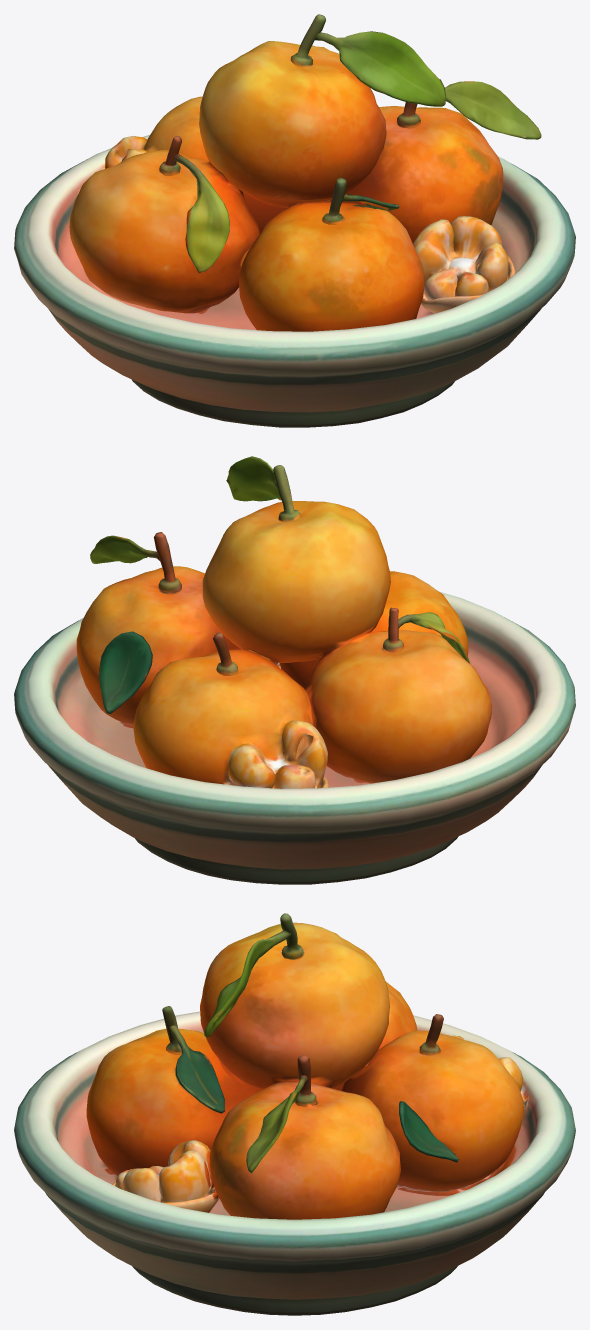
File: family-mandarins-v1.glb
3 views of the same model, one above another, from view 1: azimuth 30°, elevation 25°; view 2: azimuth 150°, elevation 25°; view 3: azimuth 270°, elevation 25° (orthographic).
Parts seen in each view (by area): view 1: Celadon dish and fresh mandarins; view 2: Celadon dish and fresh mandarins; view 3: Celadon dish and fresh mandarins.
Part boxes in pixels (left/top/right/bottom): Celadon dish and fresh mandarins: left=14, top=14, right=575, bottom=427; Celadon dish and fresh mandarins: left=14, top=456, right=575, bottom=884; Celadon dish and fresh mandarins: left=14, top=913, right=575, bottom=1315.
Size of the model in its own units: 0.292 by 0.1949 by 0.292.
1 material, 1 textured.
